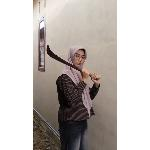Golok: (44, 42, 100, 78)
